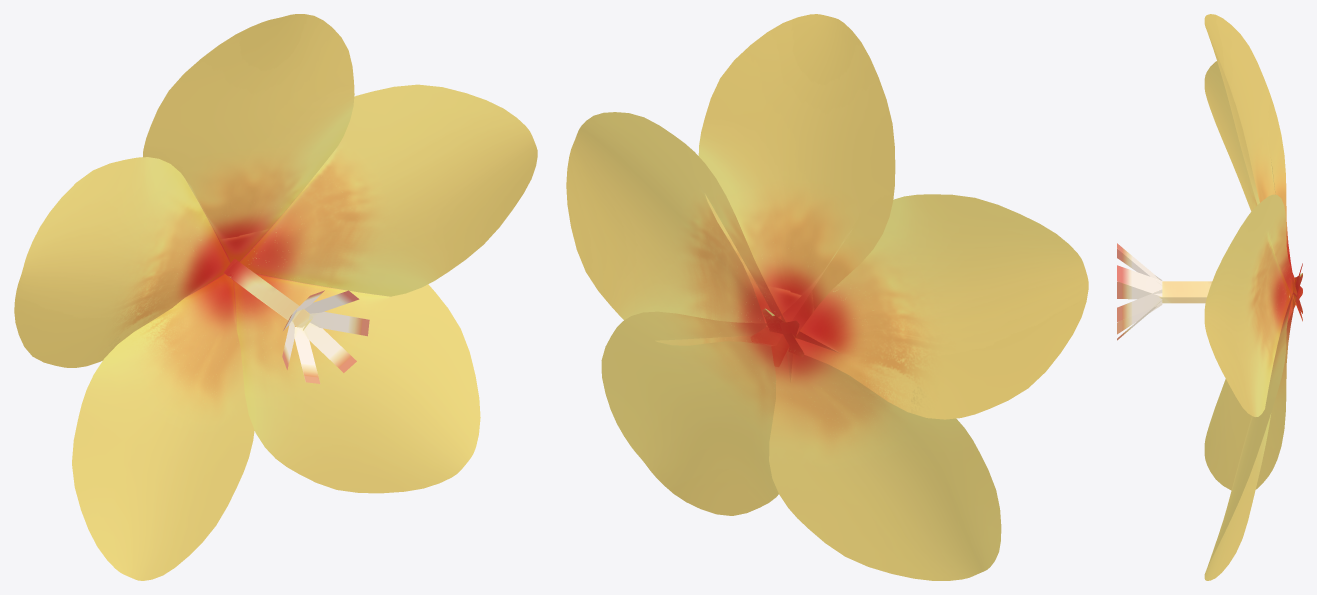
Rendered from lowpoly_hibiscus_flower.glb.
The picture shows the model from 3 angles, left to right: view 1: azimuth 30°, elevation 25°; view 2: azimuth 150°, elevation 25°; view 3: azimuth 270°, elevation 25°; orthographic projection. The views are drawn at different scales.
Parts seen in each view (by area): view 1: __Plane.002; view 2: __Plane.002; view 3: __Plane.002.
Boxes of the visible parts, left/top/right/bottom form: __Plane.002: left=14, top=14, right=537, bottom=580; __Plane.002: left=566, top=14, right=1088, bottom=580; __Plane.002: left=1117, top=14, right=1302, bottom=580.
Size of the model in its own units: 1.56 by 1.53 by 0.5064.
Materials: 1 (1 with a texture image).
